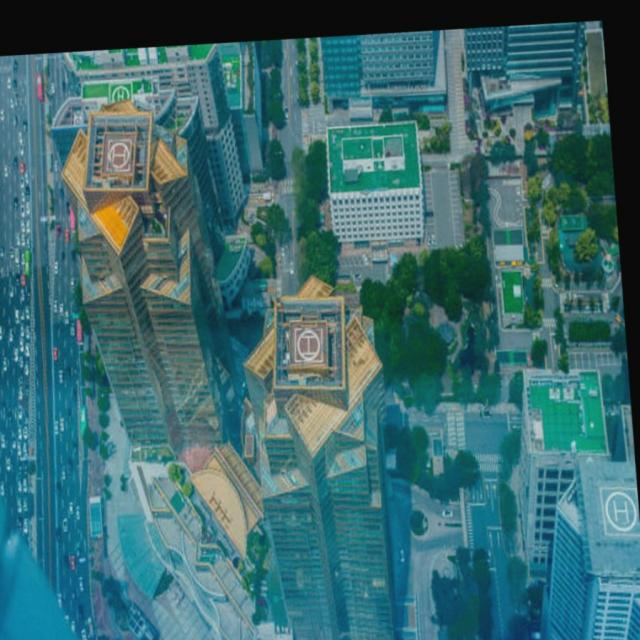helipad: (604, 489, 636, 532), (295, 329, 319, 359), (106, 140, 130, 168), (110, 84, 129, 102)
